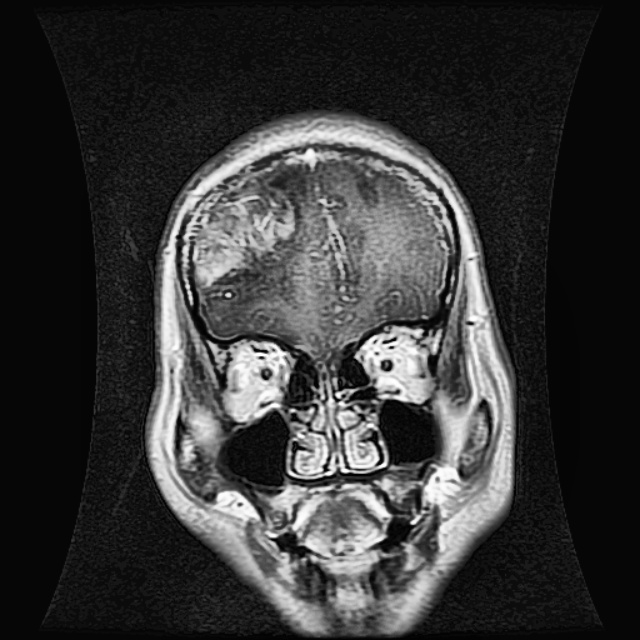Meningioma: (192, 170, 299, 288)
